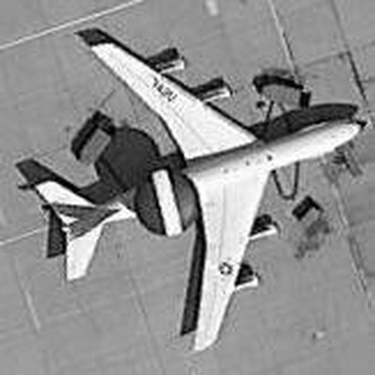airplane: (20, 17, 362, 359)
